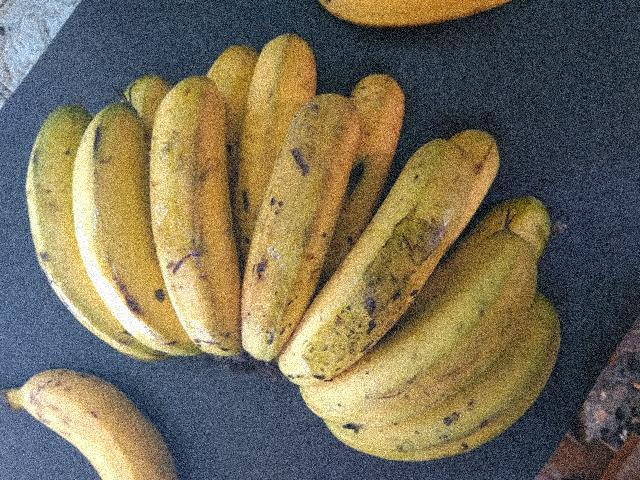ripe: (290, 245, 558, 434), (280, 142, 472, 387), (219, 81, 366, 360), (70, 105, 184, 391), (149, 79, 247, 378), (18, 83, 110, 376), (25, 365, 195, 479)
